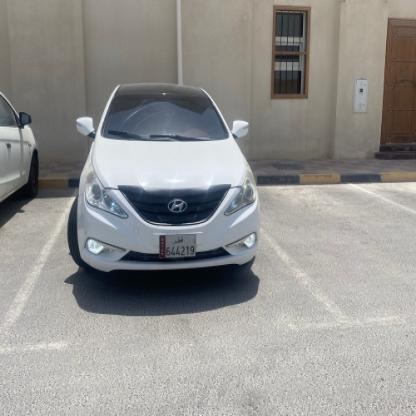np: (160, 235, 196, 259)
